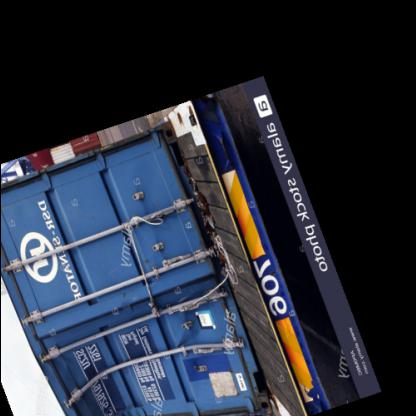Damage: (29, 310, 260, 416)
